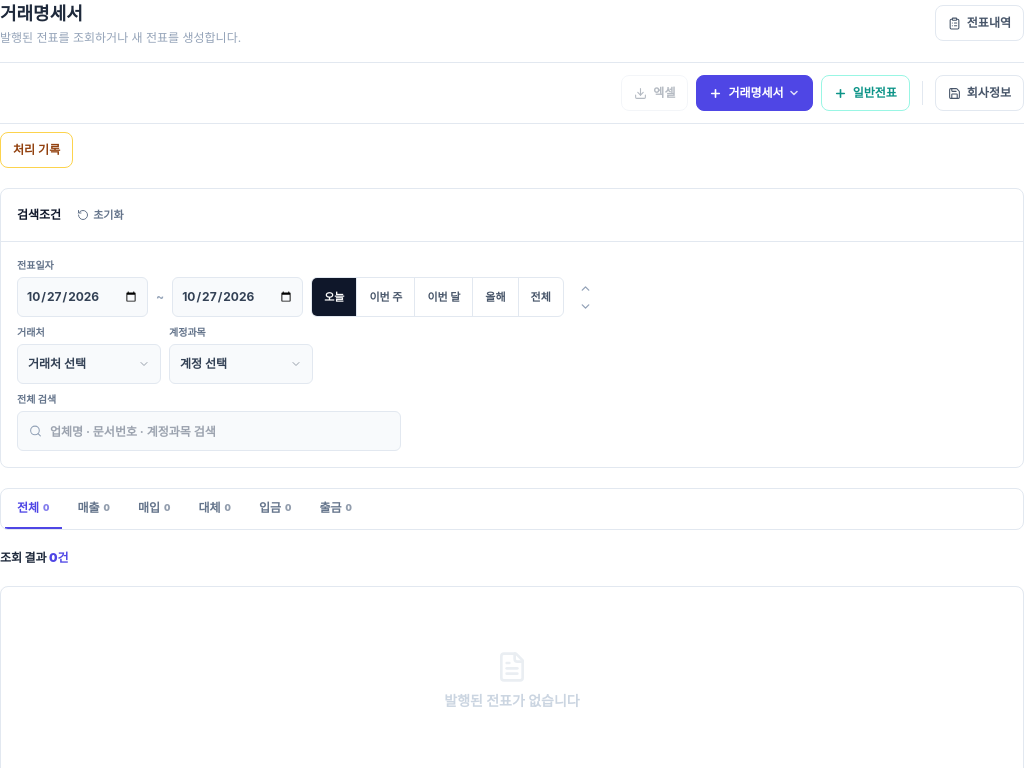
Test case: 실패 작업이 없어도 메뉴에서 빈 목록을 확인한다
Click the button "처리 기록" at (37, 150), box [0,132,73,168]
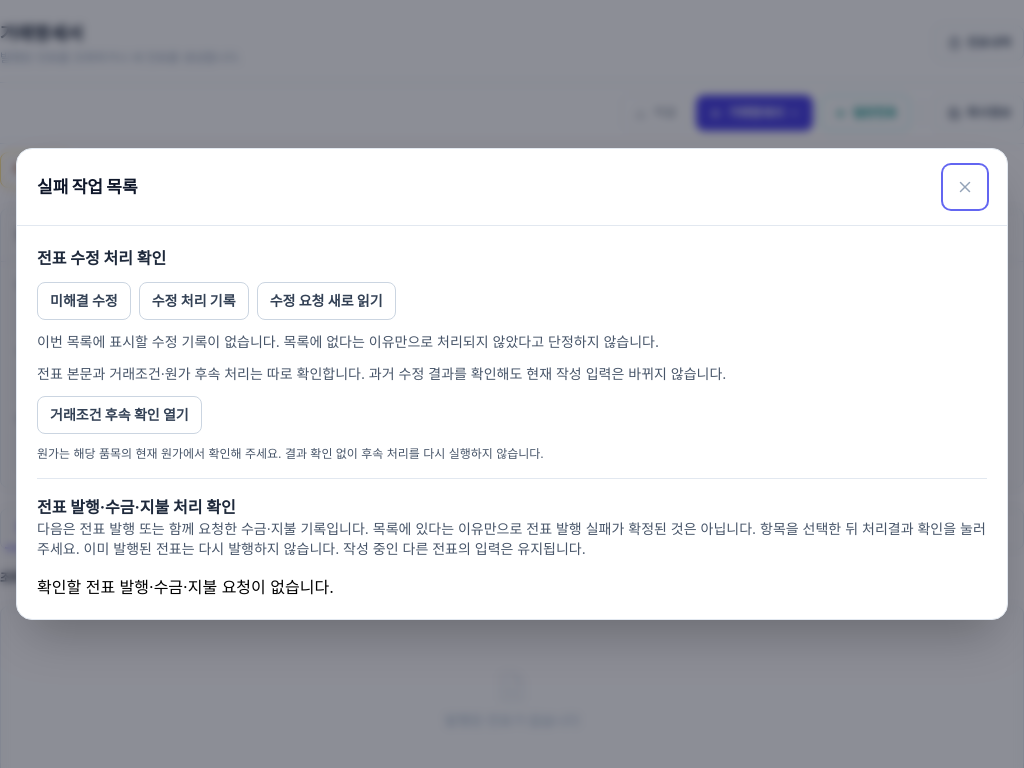
Result: the text "확인할 전표 발행·수금·지불 요청이 없습니다." is shown at [37,577,334,597]
